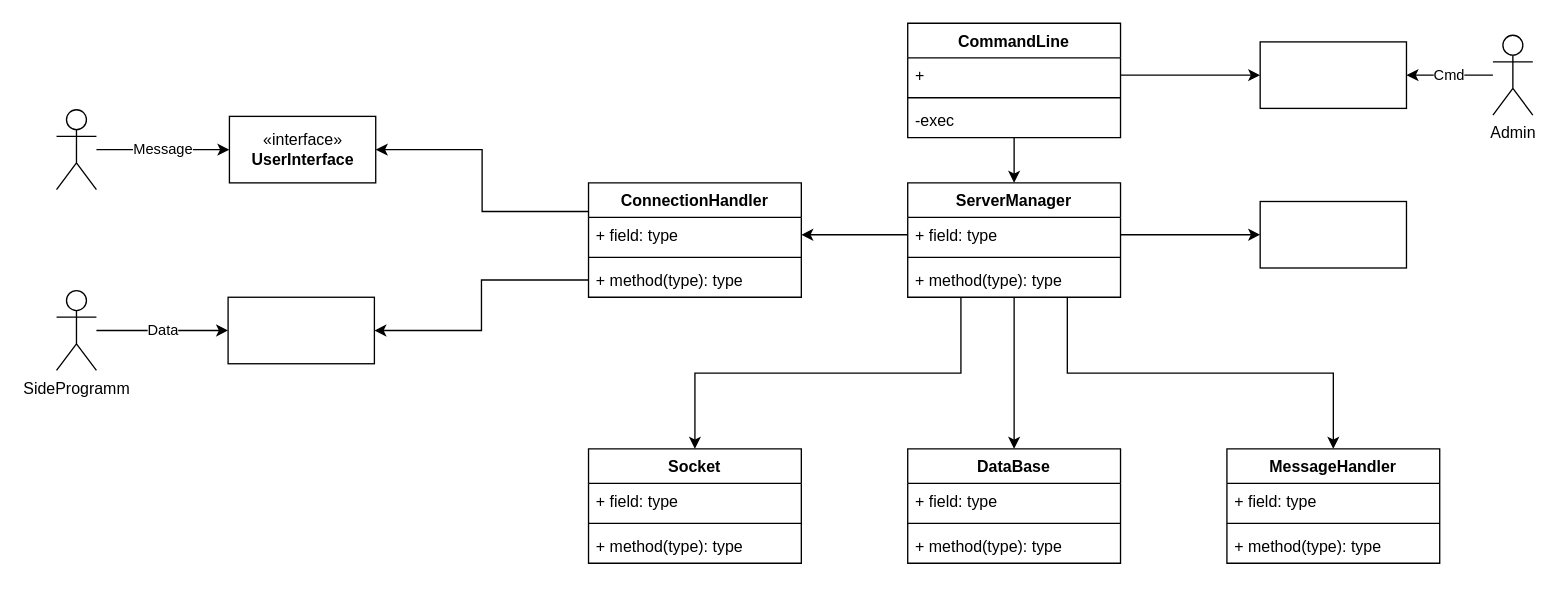
Image size: 1557x591. Some labels were removed from this diagram. Here are the shapes that lost their labels. From the top down, the centre of each, then its label:
At pixel 1332 74: "«interface» AdminInterface".
At pixel 75 149: "User".
At pixel 1332 234: "Data Structs".
At pixel 300 330: "«interface» SideProgI".
